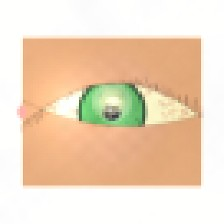corneal_ulcer: (91, 86, 132, 118)
